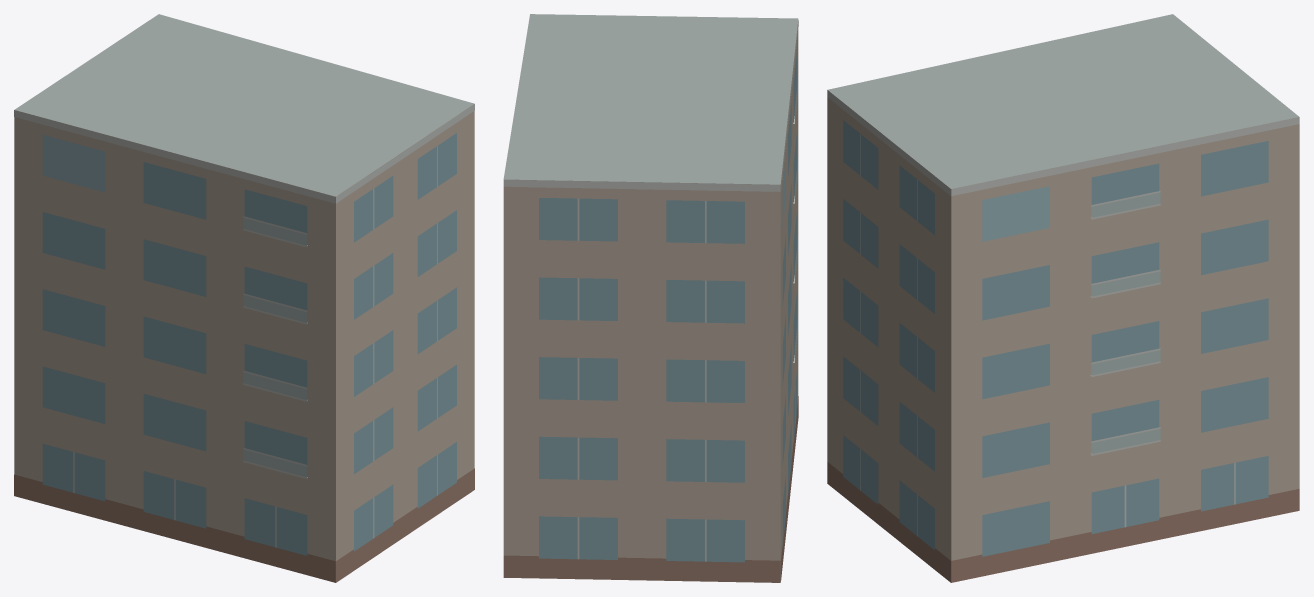
File: survey-upis-32493650.glb
3 renders of one model, left to right at view 1: azimuth 30°, elevation 25°; view 2: azimuth 150°, elevation 25°; view 3: azimuth 270°, elevation 25°, orthographic. The views are drawn at different scales.
Visible parts, largest first — view 1: survey-upis-32493650.tmp; view 2: survey-upis-32493650.tmp; view 3: survey-upis-32493650.tmp.
Boxes of the visible parts, x1=… form: survey-upis-32493650.tmp: x1=14, y1=14, x2=474, y2=582; survey-upis-32493650.tmp: x1=503, y1=14, x2=798, y2=582; survey-upis-32493650.tmp: x1=827, y1=14, x2=1299, y2=582.
Bounding box in the file's own units: 12.88 × 13.5 × 14.68.
